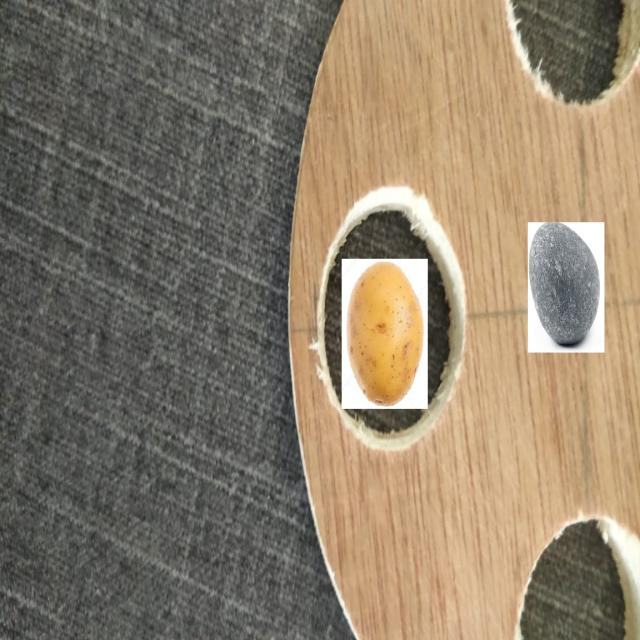potato: (347, 262, 425, 405)
